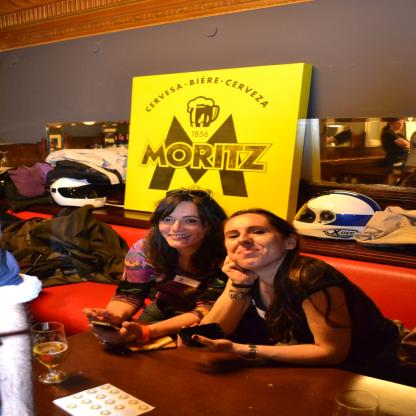Helmet: (294, 193, 386, 249), (49, 173, 118, 208)
